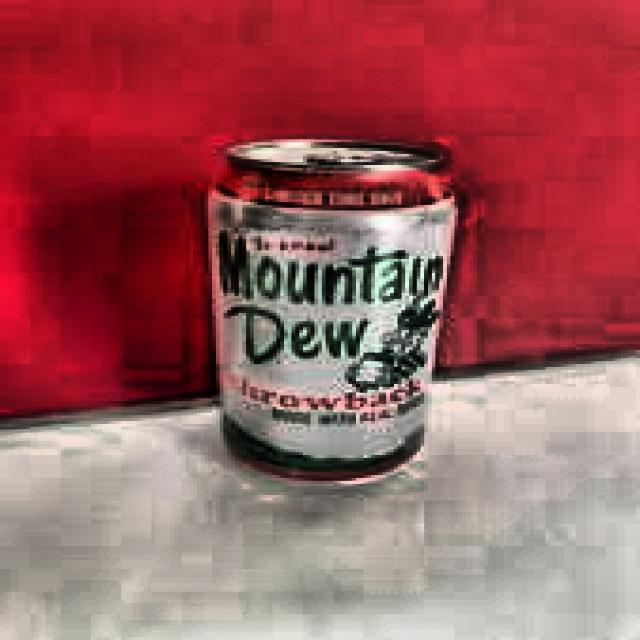Cans: (157, 110, 471, 506)
